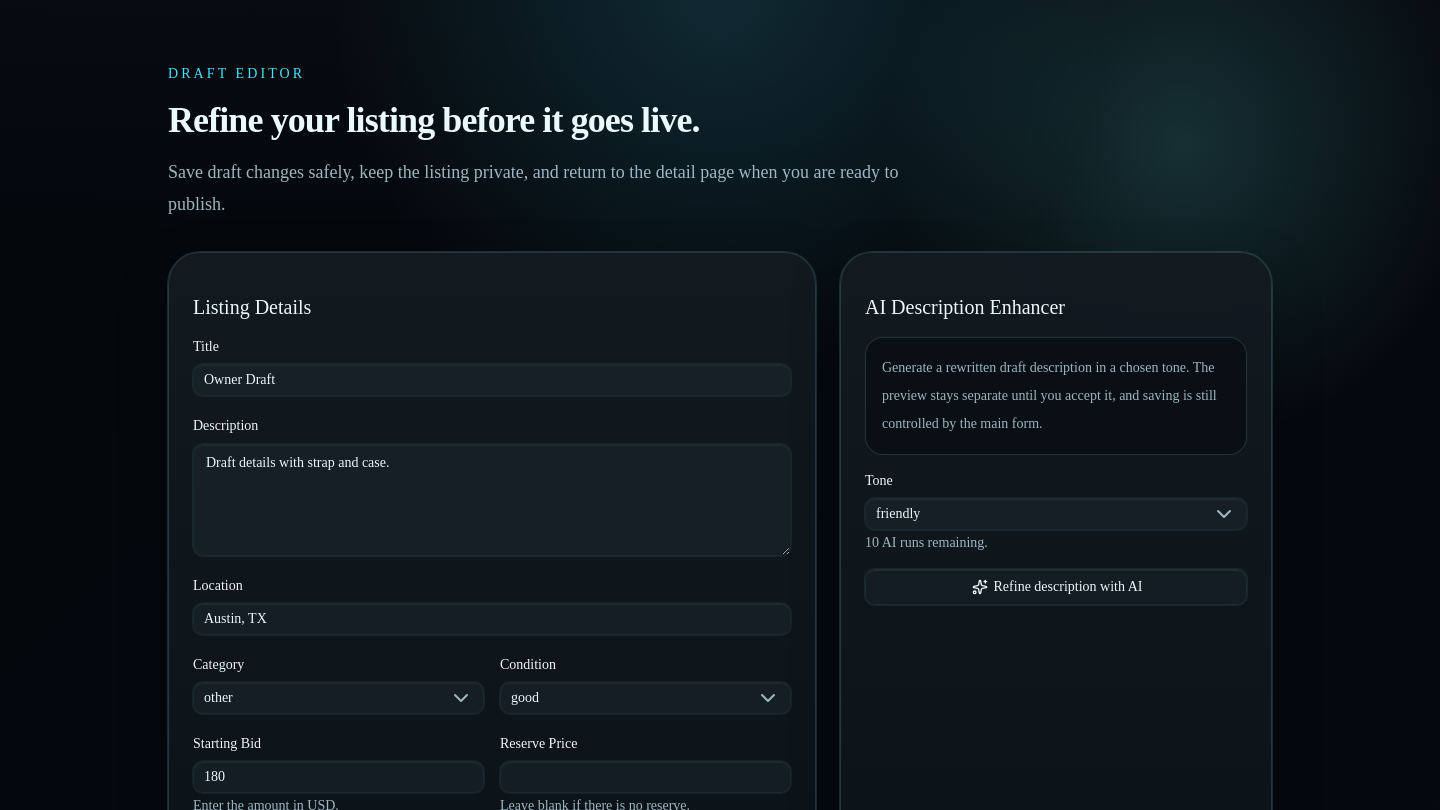
Test: DraftListingEditor › cancels the generated preview without changing the textarea
The width and height of the screenshot is (1440, 810).
Click the button "Refine description with AI" at (1056, 587), box [865, 569, 1247, 605]
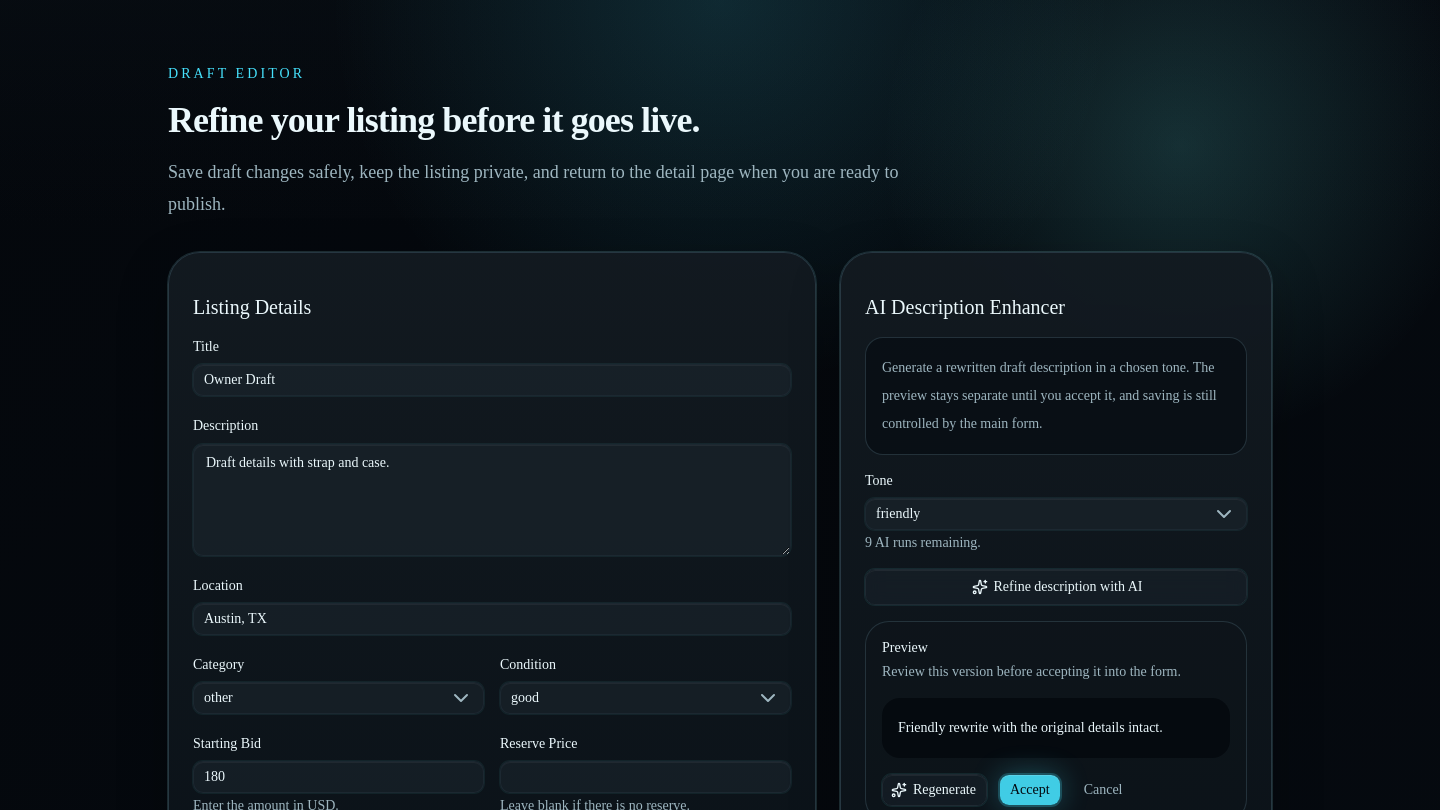
Expected: the text "Friendly rewrite with the original details intact." is shown, [882, 698, 1230, 758]
Click the button "Cancel" at (1103, 790), box [1073, 774, 1134, 806]
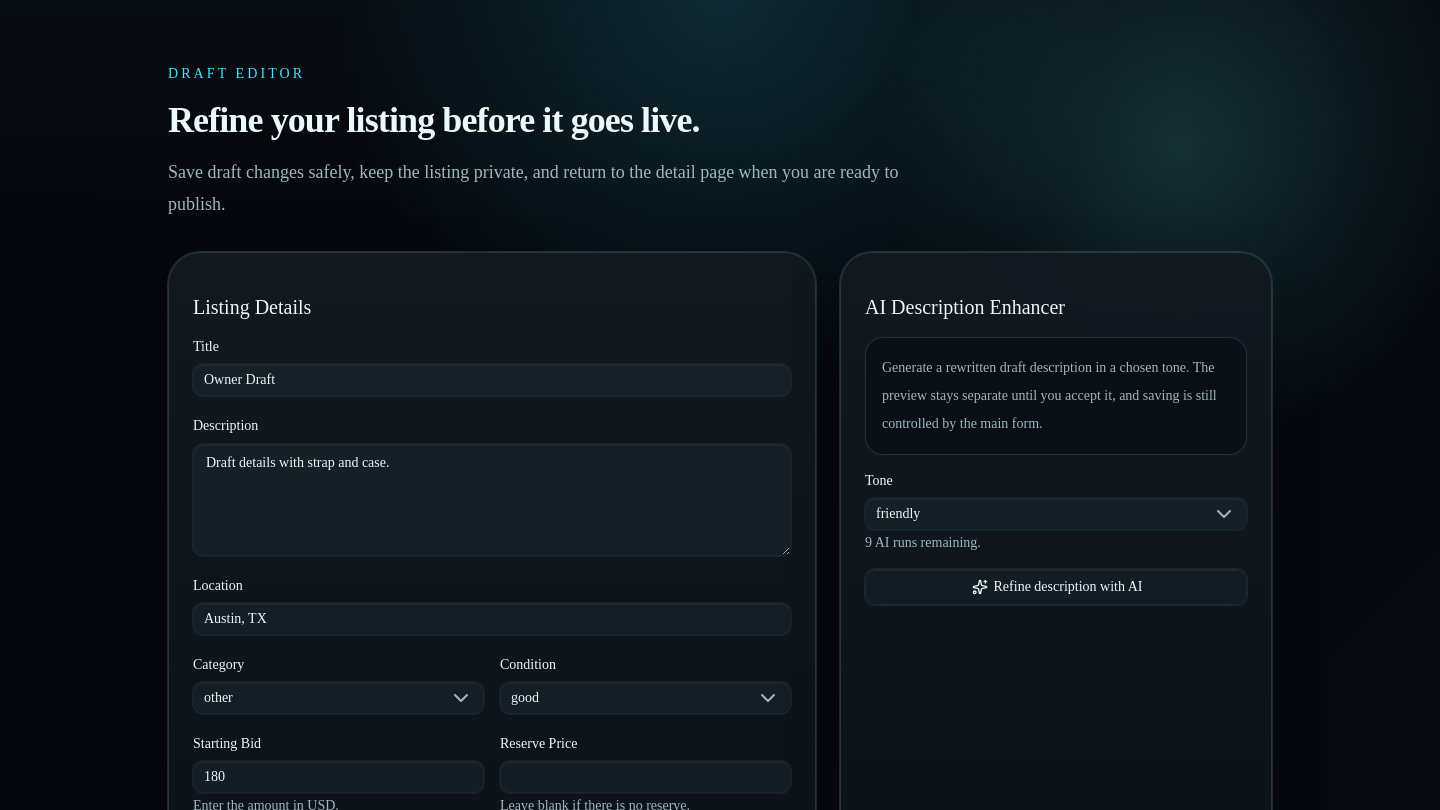
Expected: the text box labelled "Description" holds "Draft details with strap and case.", [193, 444, 791, 556]
Expected: the text "Friendly rewrite with the original details intact." is gone
